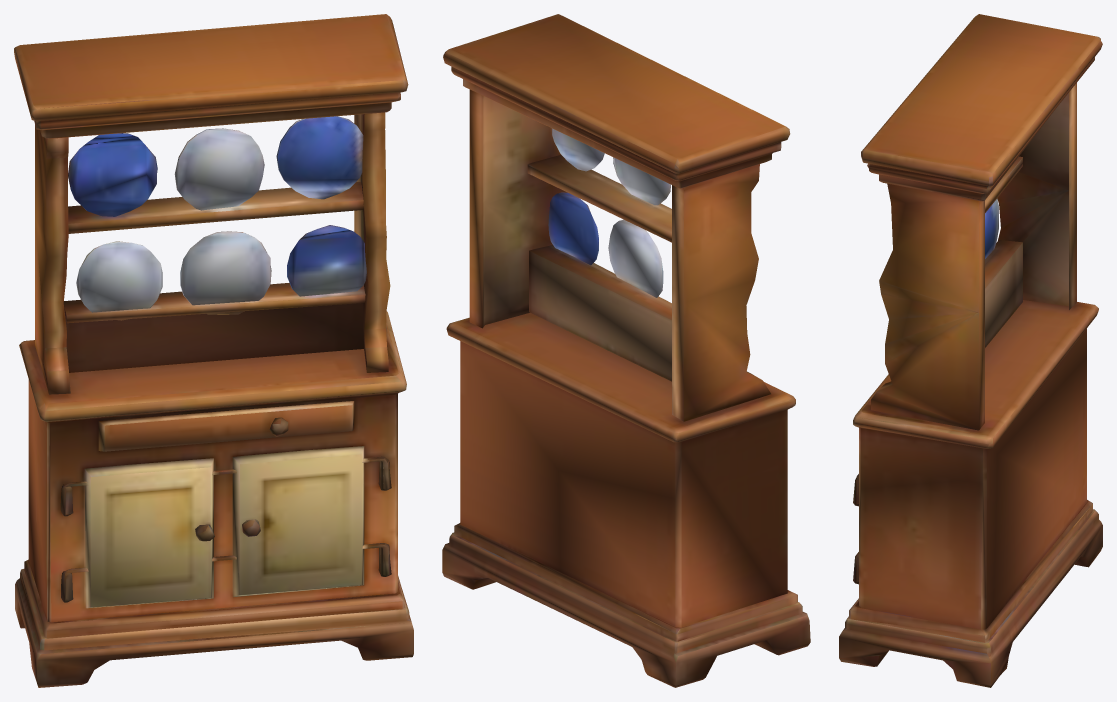
Rendered from wyn_furn_cottage_dresser.glb.
3 views of the same model, side by side, from view 1: azimuth 30°, elevation 25°; view 2: azimuth 150°, elevation 25°; view 3: azimuth 270°, elevation 25° (orthographic). The views are drawn at different scales.
Parts seen in each view (by area): view 1: tripo_node_5167e9e4-2452-4f84-8595-92320301de85; view 2: tripo_node_5167e9e4-2452-4f84-8595-92320301de85; view 3: tripo_node_5167e9e4-2452-4f84-8595-92320301de85.
Part boxes in pixels (x1,y1,x2,y2): tripo_node_5167e9e4-2452-4f84-8595-92320301de85: (14, 14, 413, 687); tripo_node_5167e9e4-2452-4f84-8595-92320301de85: (442, 14, 810, 687); tripo_node_5167e9e4-2452-4f84-8595-92320301de85: (839, 14, 1102, 687).
Bounding box in the file's own units: 1.38 × 2 × 0.9295.
Materials: 1 (1 with a texture image).
